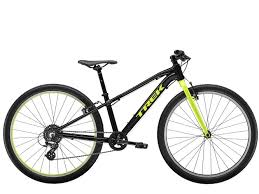bicycle: (2, 40, 259, 187)
